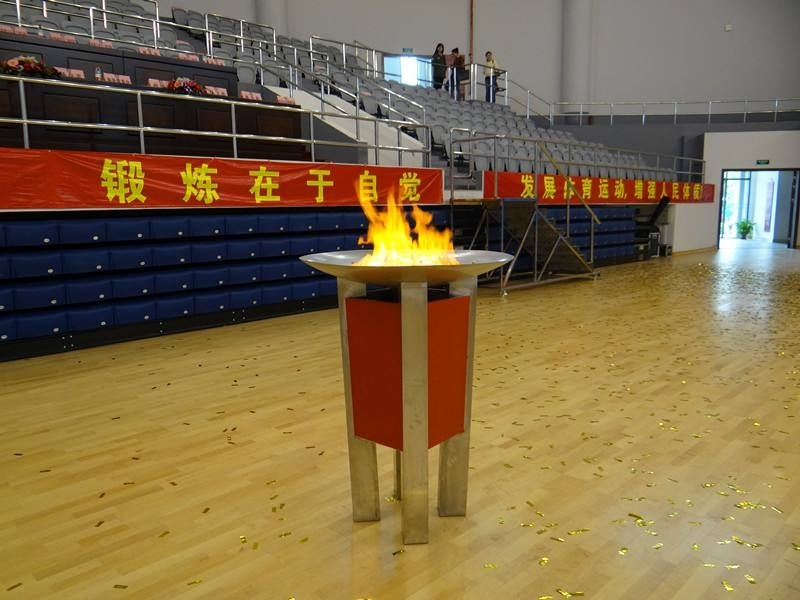fire: (355, 174, 458, 270)
